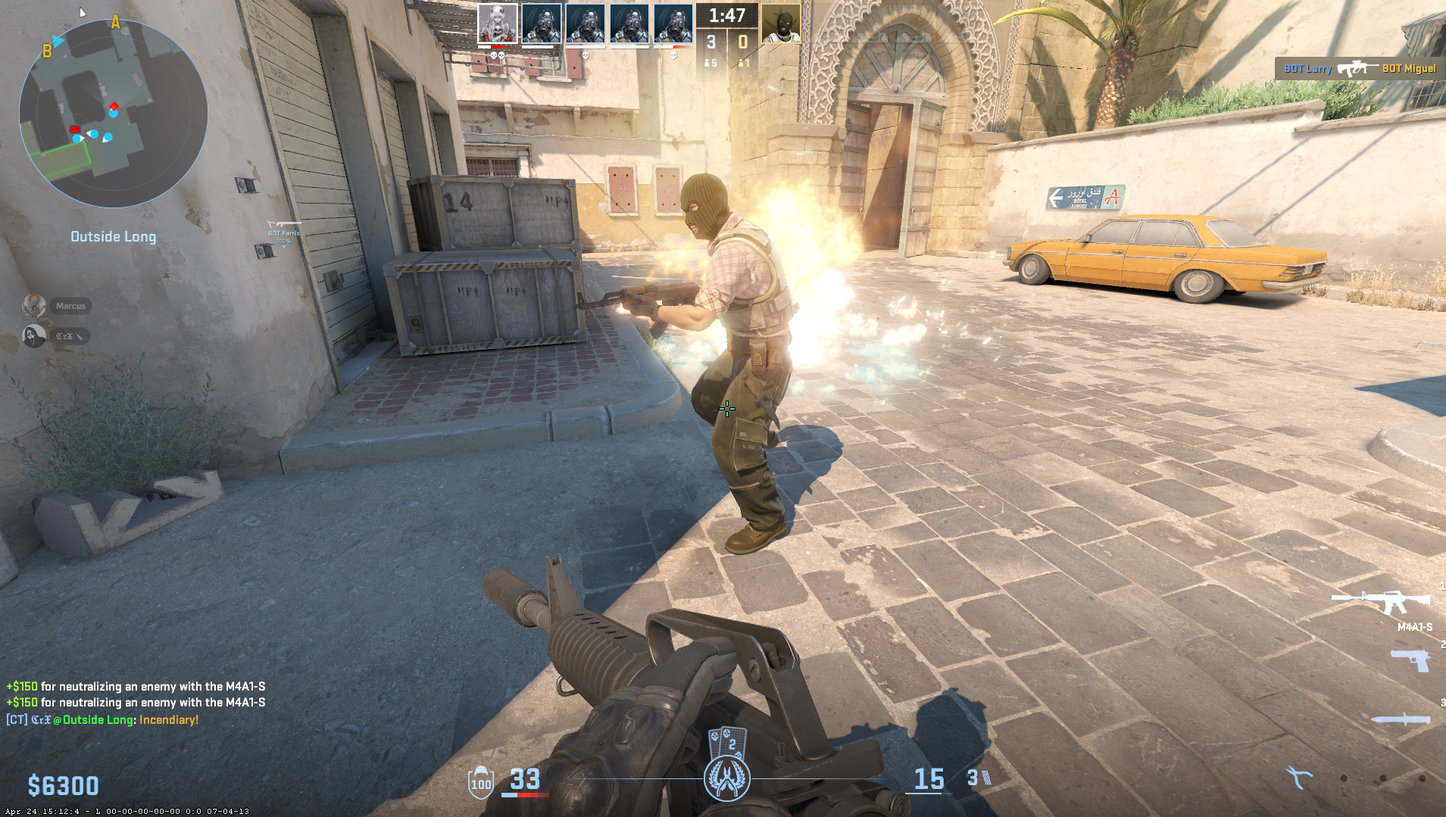T: (641, 173, 799, 554)
